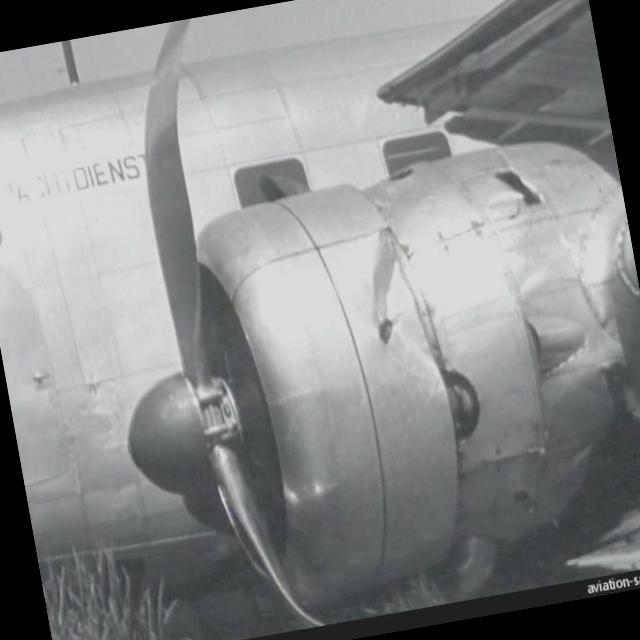dent: (365, 243, 417, 330)
